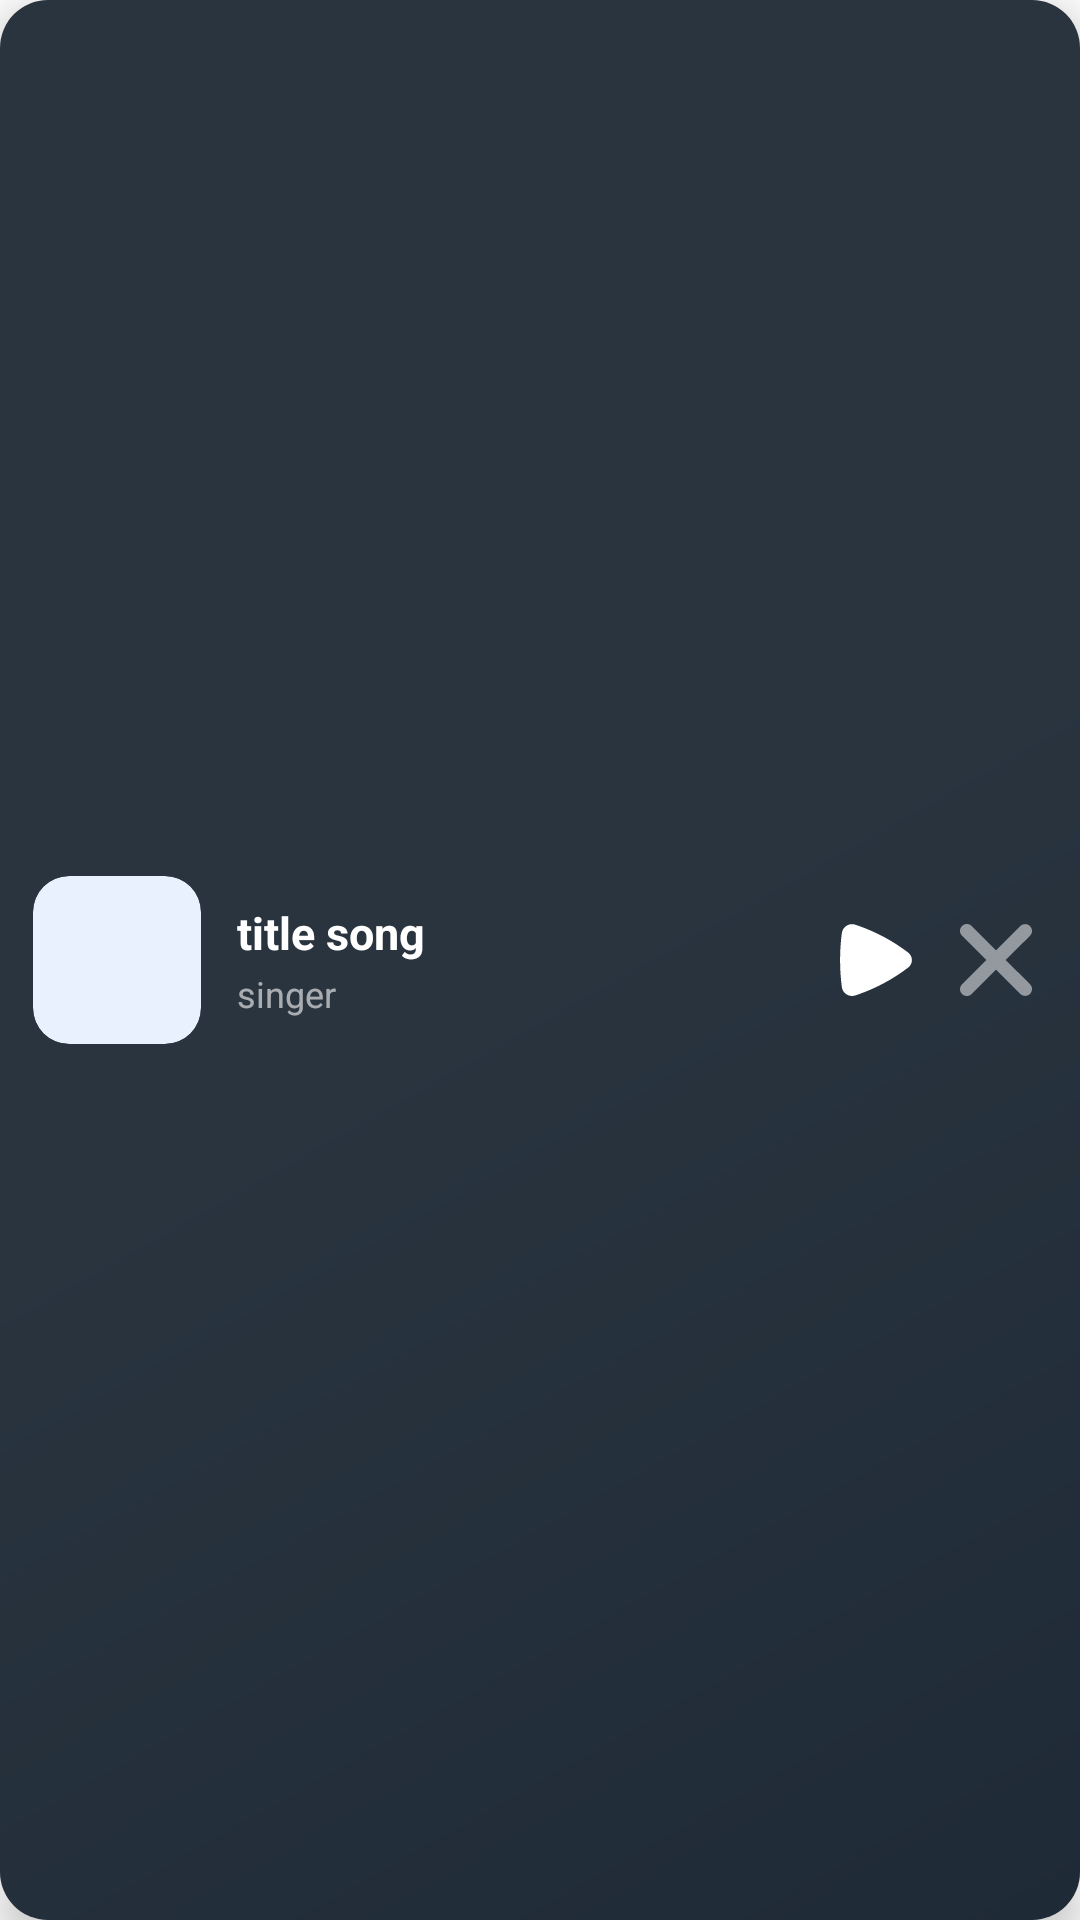

Point at icon controls on the screen. Image size 1080px x 1920px, points as (x=x, y=y).
close: (x=996, y=960)
play/pause: (x=876, y=960)
